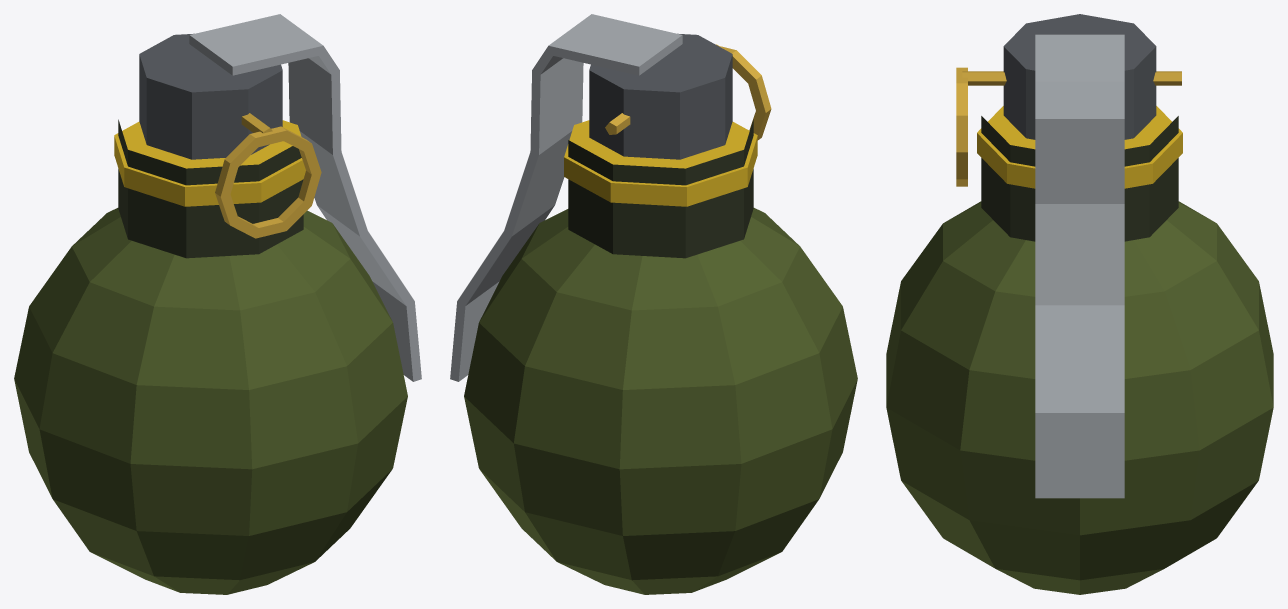
Rendered from grenade.glb.
The picture shows the model from 3 angles, left to right: view 1: azimuth 30°, elevation 25°; view 2: azimuth 150°, elevation 25°; view 3: azimuth 270°, elevation 25°; orthographic projection. The views are drawn at different scales.
Visible parts, largest first — view 1: Grenade_Body, Grenade_Lever, Grenade_Pin; view 2: Grenade_Body, Grenade_Lever, Grenade_Pin; view 3: Grenade_Body, Grenade_Lever, Grenade_Pin.
Part boxes in pixels (left/top/right/bottom): Grenade_Body: left=14, top=33, right=407, bottom=594; Grenade_Lever: left=189, top=14, right=421, bottom=381; Grenade_Pin: left=215, top=113, right=321, bottom=238; Grenade_Body: left=464, top=33, right=857, bottom=594; Grenade_Lever: left=450, top=14, right=682, bottom=381; Grenade_Pin: left=605, top=44, right=771, bottom=140; Grenade_Body: left=886, top=14, right=1273, bottom=594; Grenade_Lever: left=1035, top=34, right=1124, bottom=498; Grenade_Pin: left=956, top=67, right=1181, bottom=186.
Size of the model in its own units: 0.0673 by 0.094 by 0.0609.
